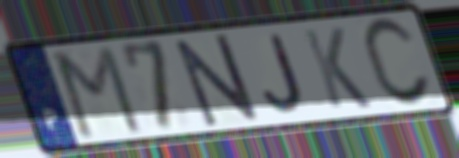7: (115, 39, 182, 135)
C: (359, 14, 435, 111)
J: (262, 33, 307, 116)
K: (299, 25, 375, 111)
M: (50, 43, 146, 142)
N: (171, 31, 263, 131)
